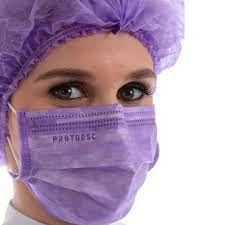with_mask_and_cap: (1, 1, 159, 225)
